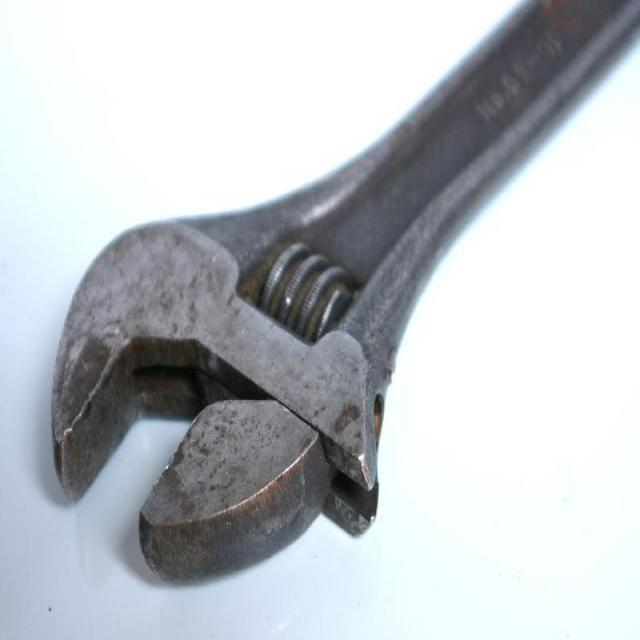wrench: (31, 0, 638, 574)
